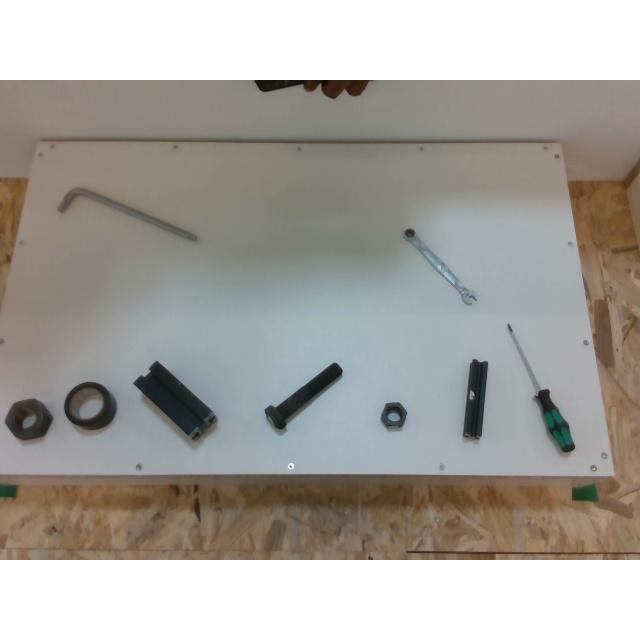AllenKey: (56, 186, 196, 238)
F20_20_B: (462, 359, 488, 439)
M20: (380, 400, 408, 428)
M20_100: (265, 363, 343, 431)
M30: (4, 399, 52, 439)
S40_40_B: (134, 361, 218, 441)
Screwdriver: (506, 323, 574, 452)
Wrench: (403, 228, 477, 304)
